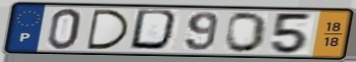0: (45, 7, 85, 51)
5: (267, 11, 319, 56)
9: (182, 11, 221, 53)
D: (126, 8, 183, 54), (85, 8, 132, 51)
O: (223, 11, 269, 54)
